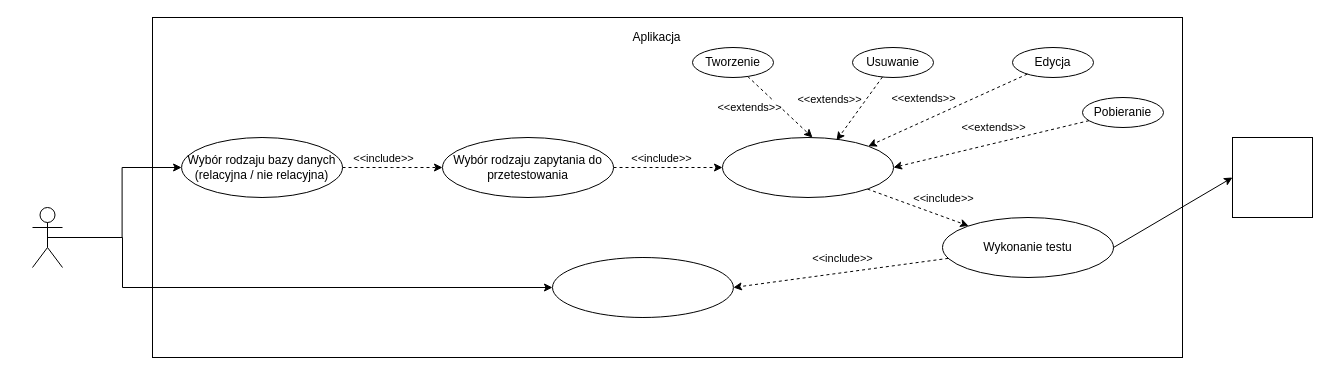
Image size: 1330x375. Some labels were removed from this diagram. Here are the shapes that lost their labels. From the top down, the box of each, then its label:
(722, 136, 894, 198): Wybór skomplikowania zapytania
(1232, 136, 1312, 218): SYSTEM
(32, 206, 62, 268): Użytkownik
(552, 256, 733, 318): Podgląd podsumowania szybkości (wyniki)
